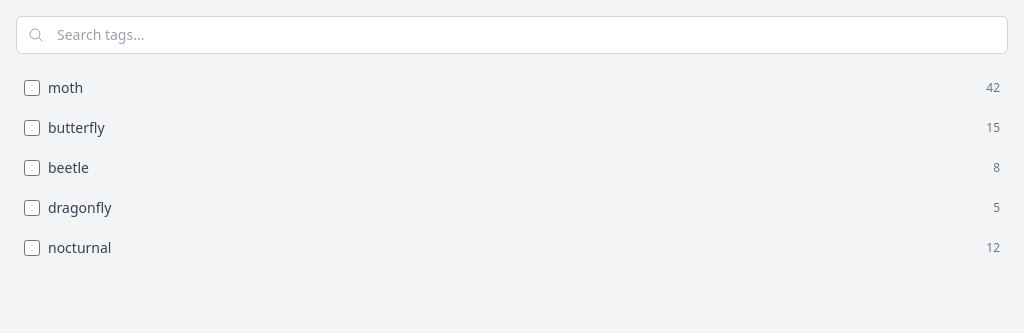
TagFilter › Selected Tags Display › shows selected tags as chips
Click the checkbox named "select tag moth".
click(32, 88)  # box [24,80,40,96]
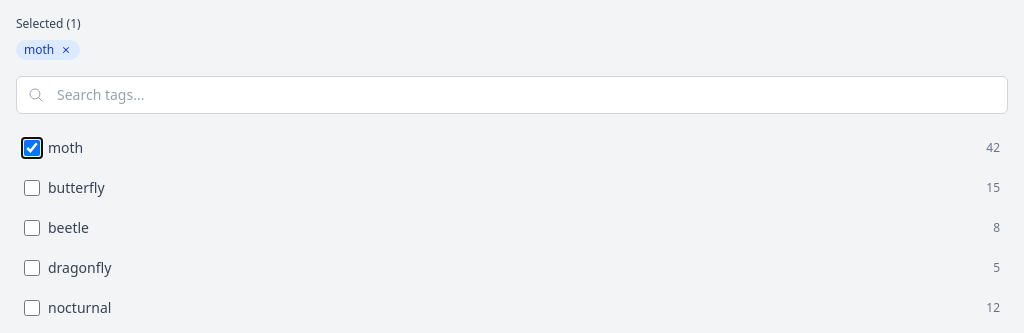
Now the button with aria-label "Tag: moth" is shown, box [16,40,80,60]
